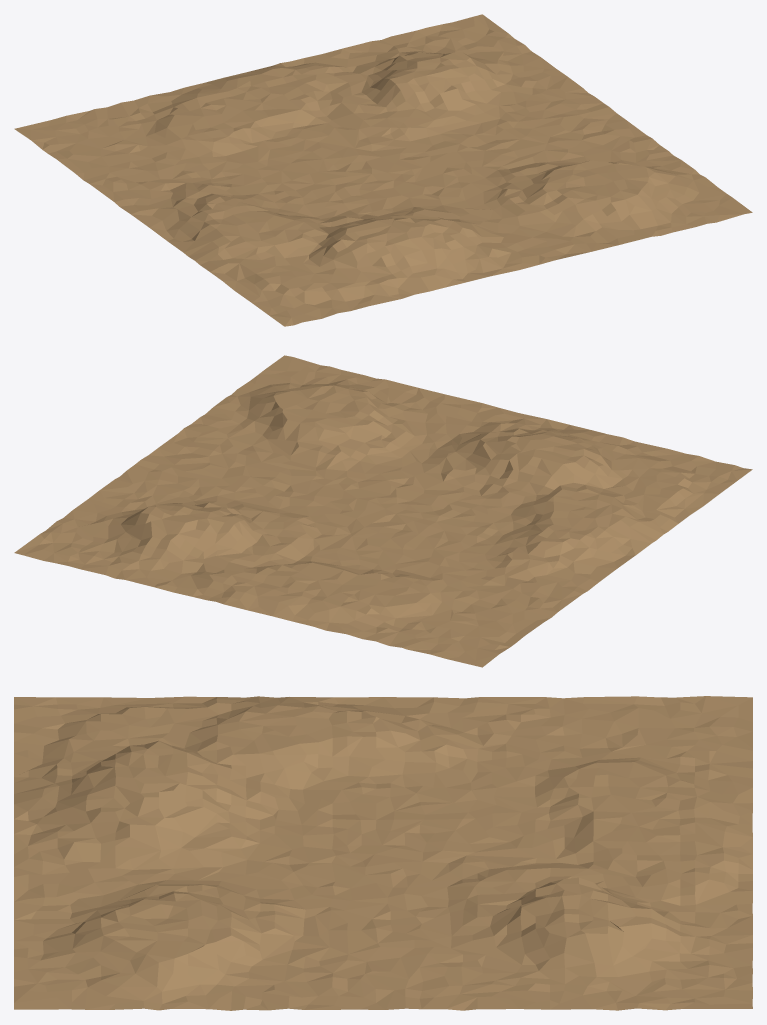
The model's file is villagePlane.fbx.
The picture shows the model from 3 angles, top to bottom: view 1: azimuth 30°, elevation 25°; view 2: azimuth 150°, elevation 25°; view 3: azimuth 270°, elevation 25°; orthographic projection. The views are drawn at different scales.
Parts seen in each view (by area): view 1: villagePlane; view 2: villagePlane; view 3: villagePlane.
Boxes of the visible parts, box(x1,y1,x2,y2) form: villagePlane: box(14, 14, 752, 326); villagePlane: box(14, 355, 752, 667); villagePlane: box(14, 696, 752, 1010).
Bounding box in the file's own units: 2001 × 96.68 × 2001.
